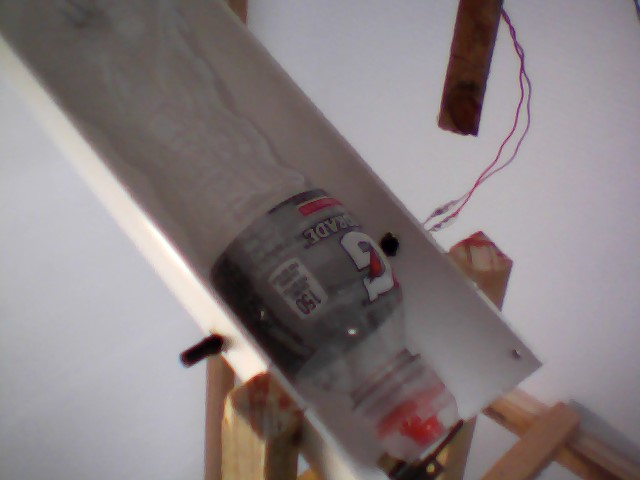plastico: (12, 1, 462, 456)
